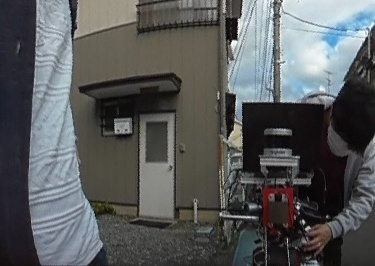person: (297, 77, 375, 266)
